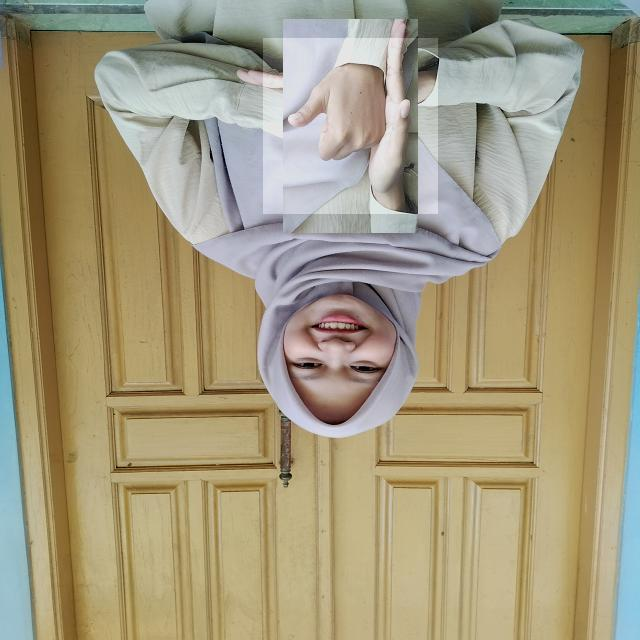cantik: (263, 38, 438, 214)
